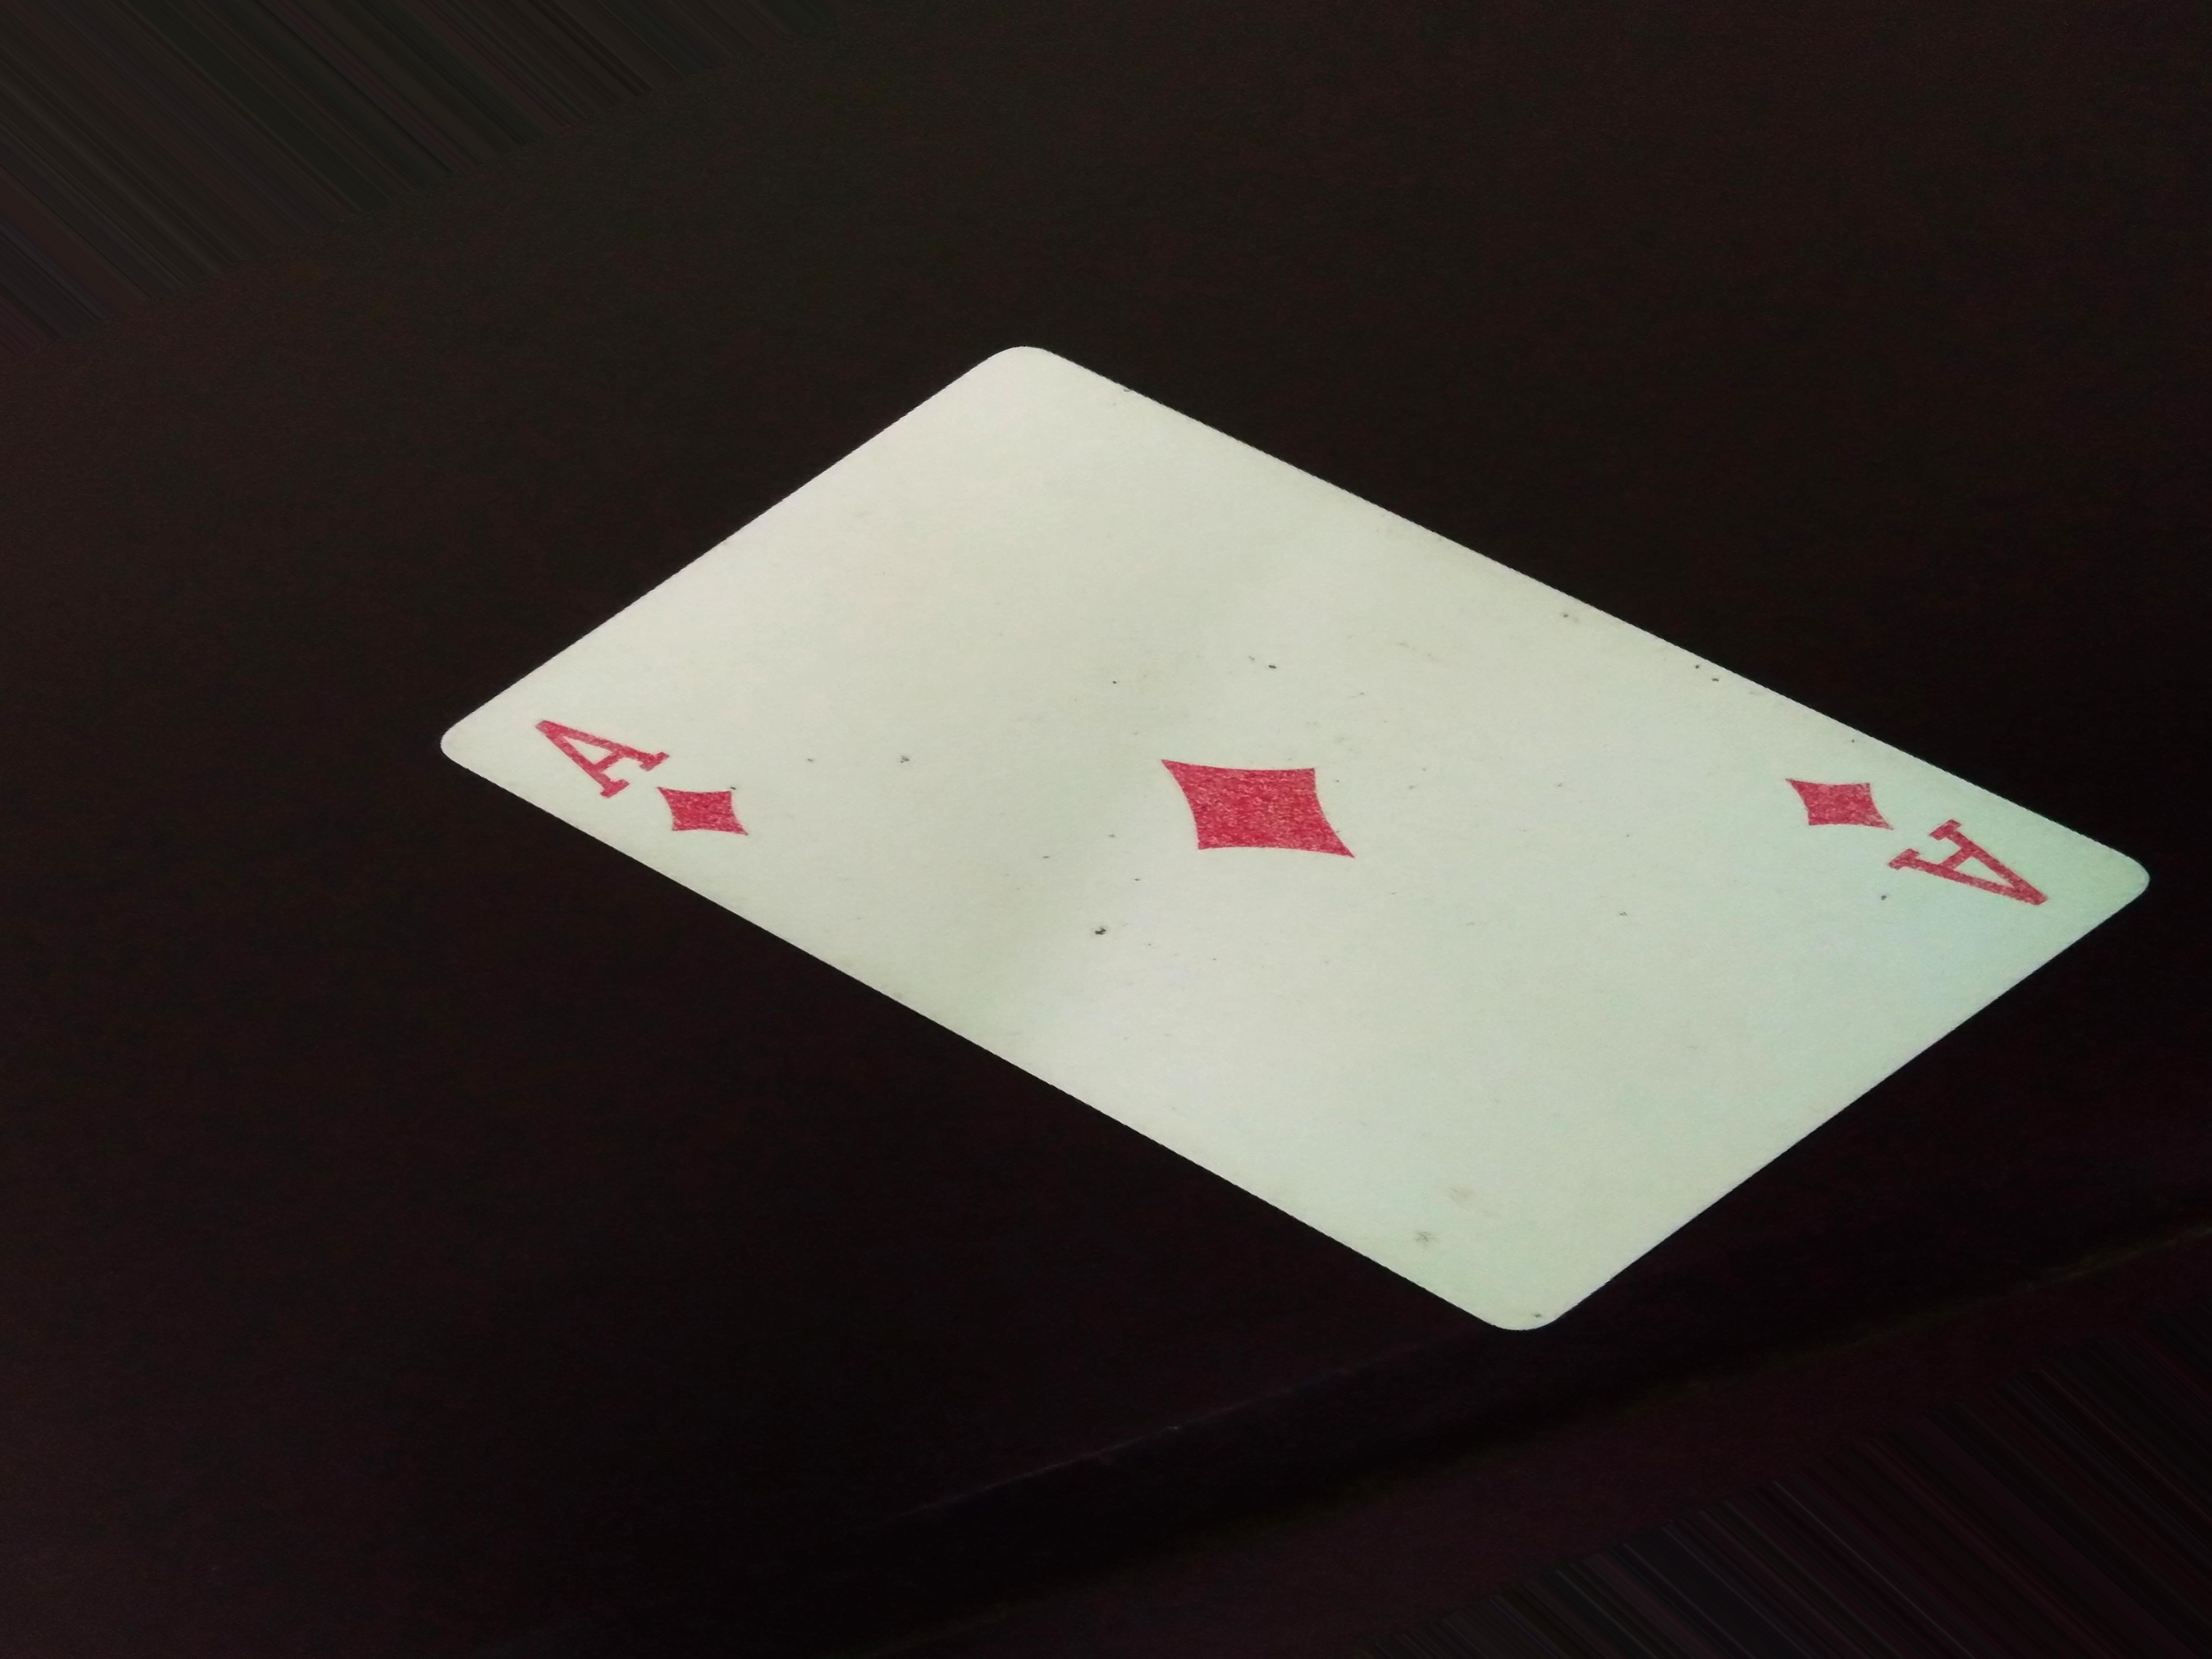AD: (1761, 753, 2107, 945)
